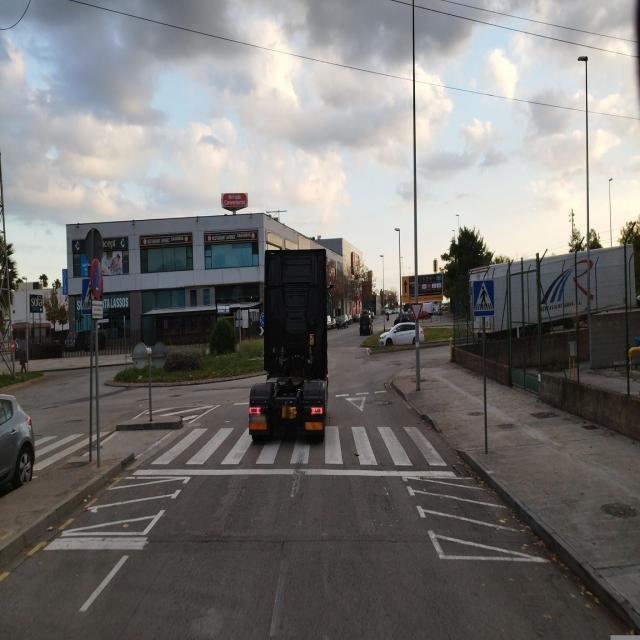forb_stopping: (91, 259, 103, 299)
